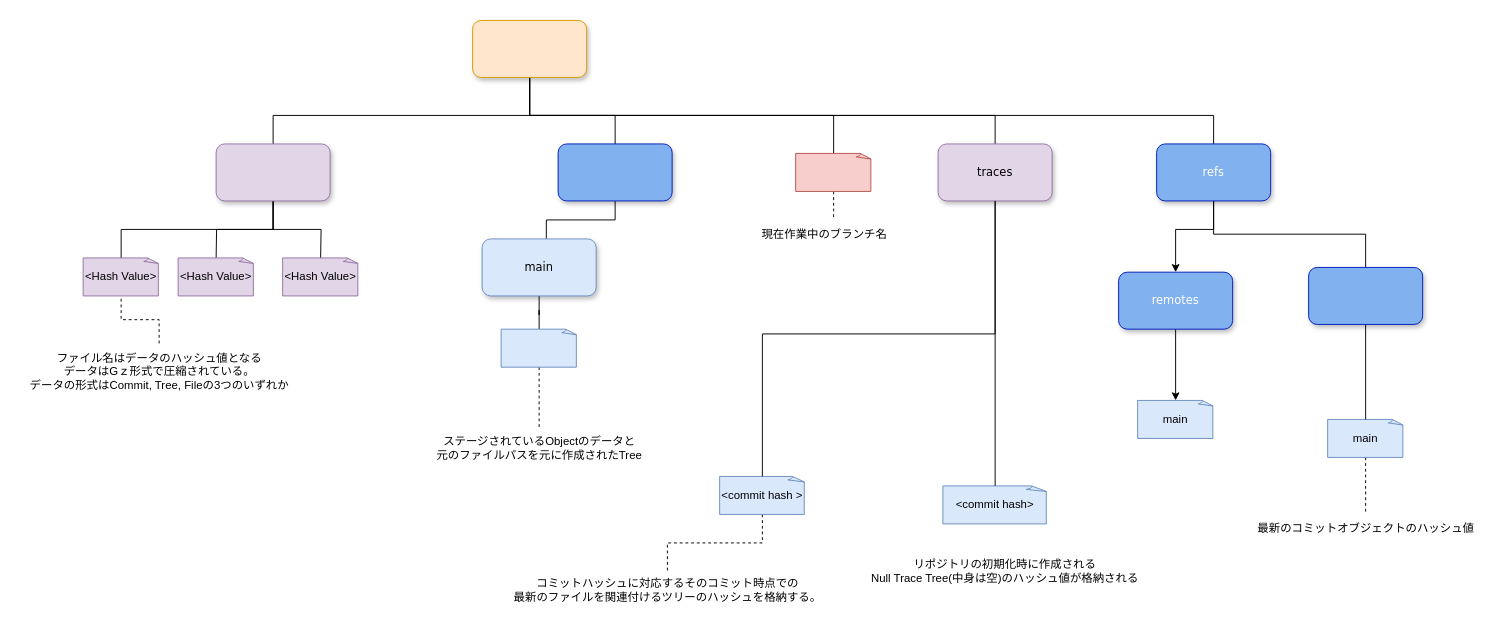
Image size: 1500x626. Some labels were removed from this diagram. Here are the shapes that lost their labels. From the top down, the centre of each, then its label:
At point (530, 50): ".meltos".
At point (273, 173): "Objects".
At point (615, 173): "branches".
At point (833, 171): "WORKING".
At point (1366, 297): "heads".
At point (538, 347): "STAGE".
